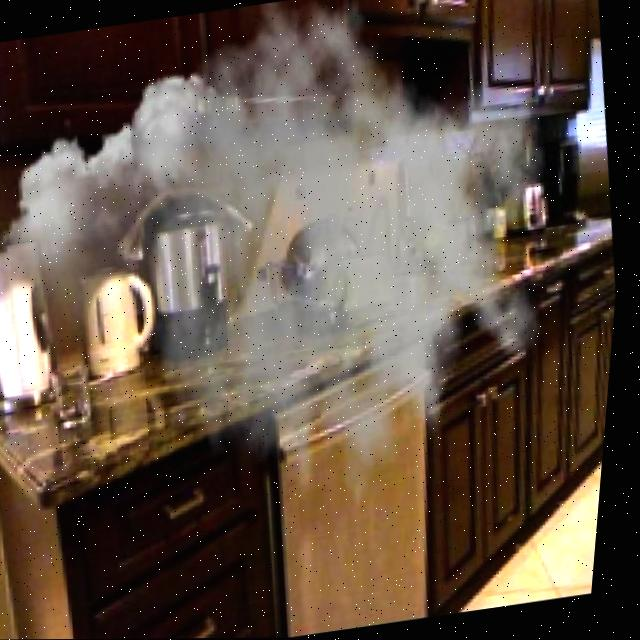Smoke: (0, 0, 577, 584)
